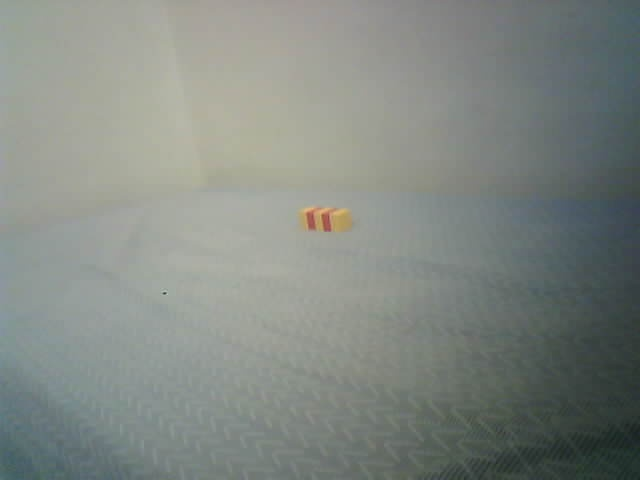lego: (297, 206, 353, 234)
